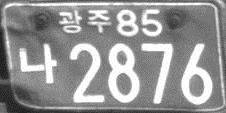2: (68, 42, 105, 104)
5: (139, 8, 163, 39)
6: (179, 42, 214, 106)
7: (140, 42, 174, 105)
8: (107, 42, 141, 102), (115, 8, 140, 37)
광주_O: (57, 9, 110, 36)
나: (18, 41, 57, 86)
